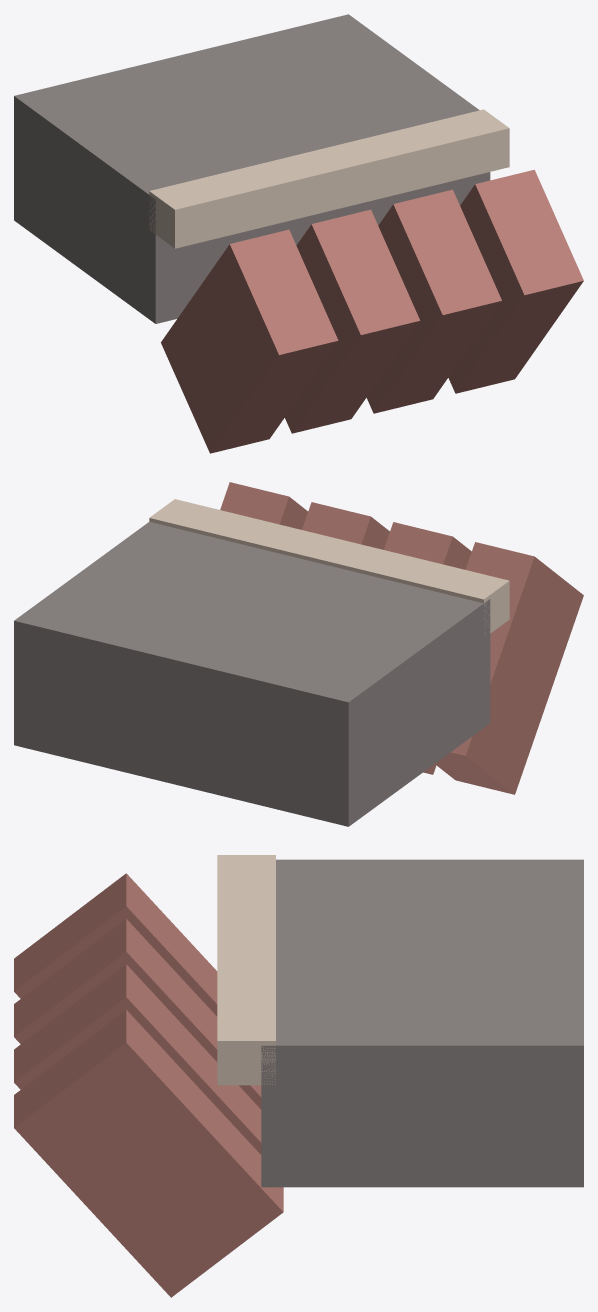
File: inf_v2_hocker_hand.fbx
3 views of the same model, one above another, from view 1: azimuth 30°, elevation 25°; view 2: azimuth 150°, elevation 25°; view 3: azimuth 270°, elevation 25° (orthographic). The views are drawn at different scales.
Parts seen in each view (by area): view 1: inf_v2_hocker_hand; view 2: inf_v2_hocker_hand; view 3: inf_v2_hocker_hand.
Part boxes in pixels (x1,y1,x2,y2): inf_v2_hocker_hand: (14,14,583,453); inf_v2_hocker_hand: (14,482,583,826); inf_v2_hocker_hand: (14,855,583,1297).
Bounding box in the file's own units: 90 × 59.79 × 117.
